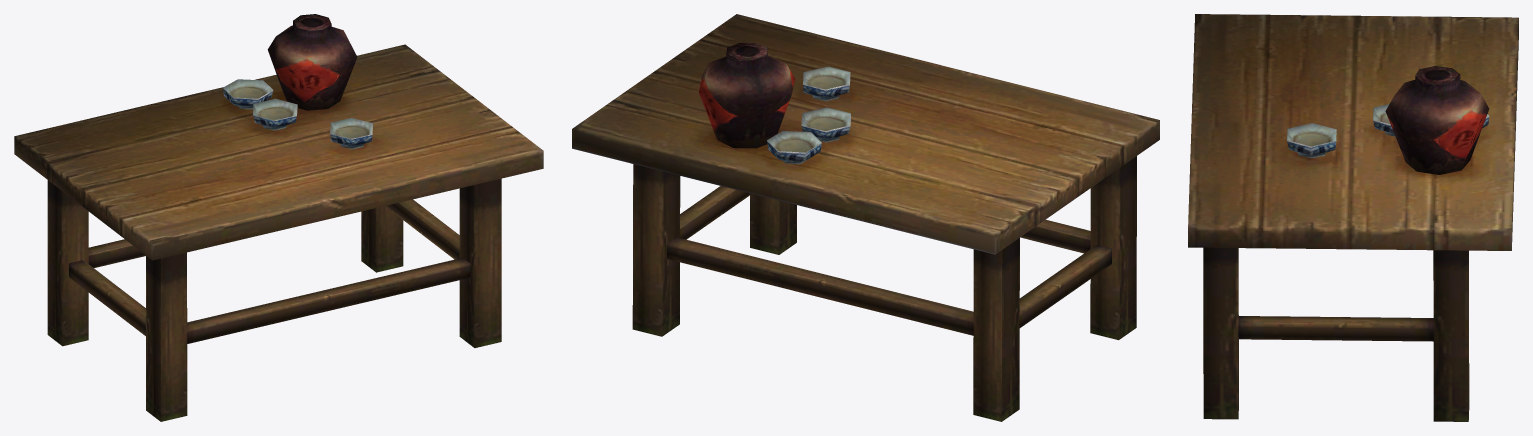
File: C5_Build_3.FBX
The picture shows the model from 3 angles, left to right: view 1: azimuth 30°, elevation 25°; view 2: azimuth 150°, elevation 25°; view 3: azimuth 270°, elevation 25°; orthographic projection. The views are drawn at different scales.
Visible parts, largest first — view 1: C5_Build_3; view 2: C5_Build_3; view 3: C5_Build_3.
Part boxes in pixels (bbox=[...]): C5_Build_3: bbox=[14, 14, 543, 421]; C5_Build_3: bbox=[572, 14, 1159, 421]; C5_Build_3: bbox=[1188, 14, 1518, 421].
Bounding box in the file's own units: 124 × 79.52 × 80.17.
